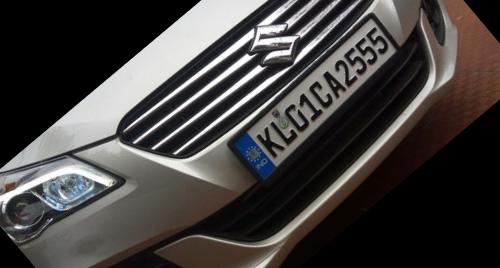plate: (220, 8, 420, 190)
